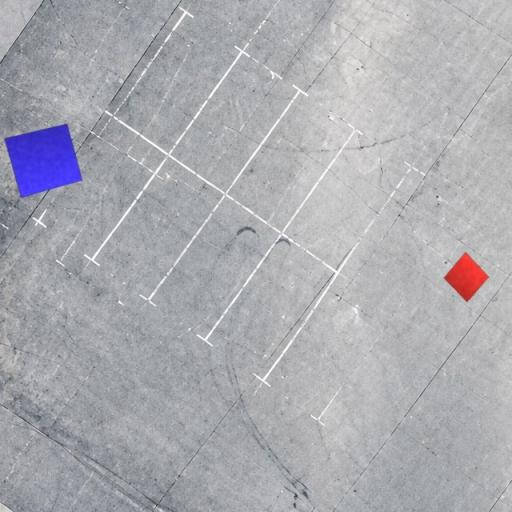BLUE_SQUARE: (3, 124, 83, 198)
RED_SQUARE: (443, 252, 490, 303)
